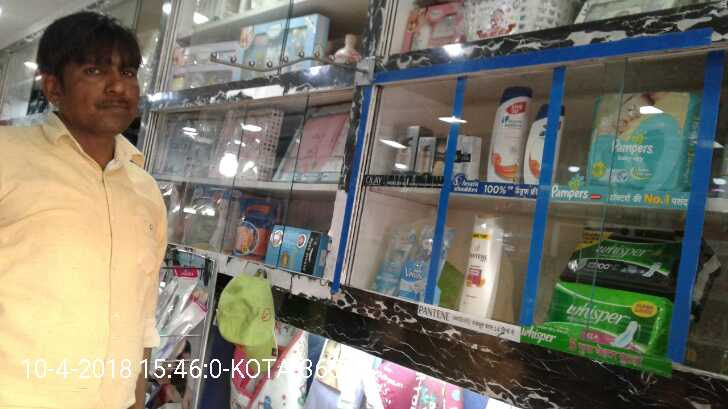venus: (397, 225, 437, 304)
